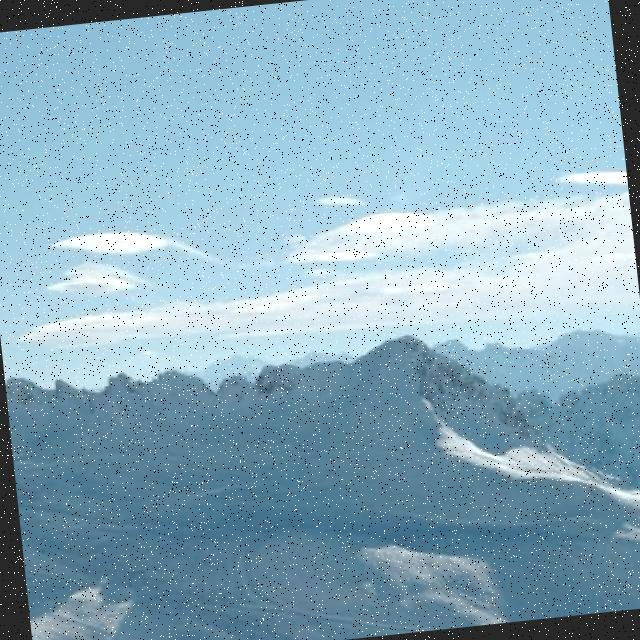Ac: (1, 148, 468, 363)
